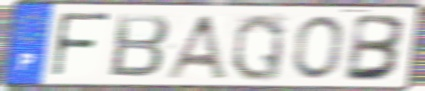A: (161, 13, 230, 81)
B: (342, 12, 410, 83), (106, 13, 173, 81)
F: (48, 10, 114, 81)
O: (291, 14, 345, 82)
Q: (229, 11, 287, 83)
